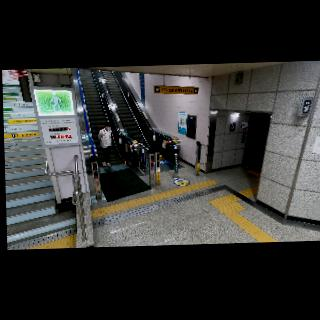normal: (98, 121, 115, 169)
